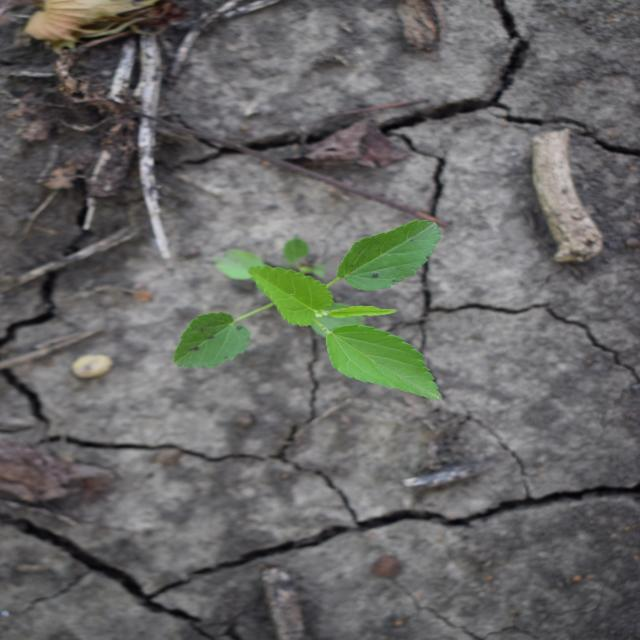PricklySida: (171, 218, 449, 405)
